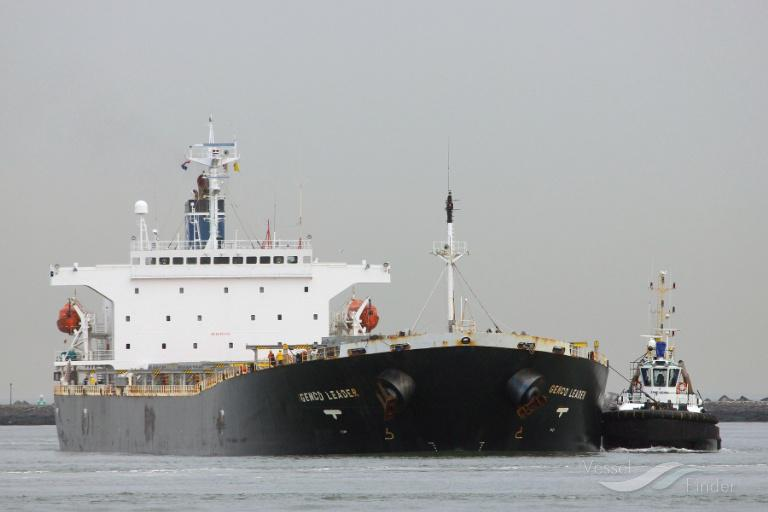OCR: (295, 380, 360, 406), (550, 378, 592, 408)
